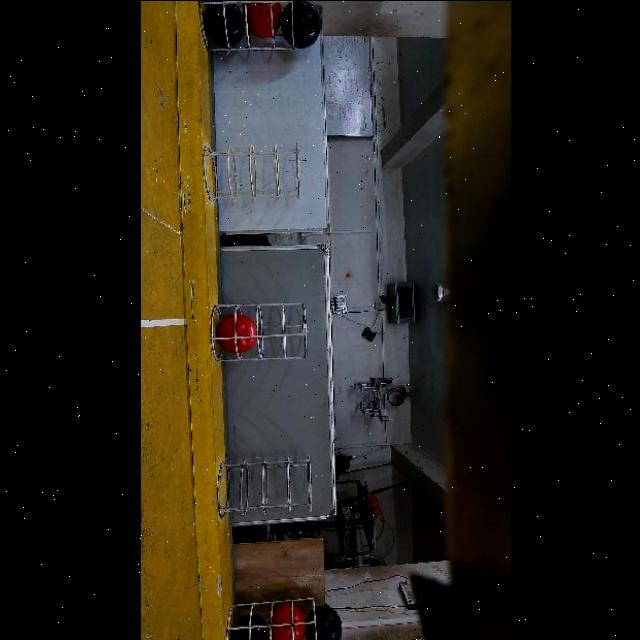P: (203, 3, 246, 48), (280, 0, 321, 47), (305, 605, 341, 640), (231, 613, 269, 640)
R: (216, 313, 256, 352), (246, 2, 282, 37), (271, 604, 305, 640)
S: (219, 452, 311, 526), (196, 143, 302, 204), (209, 302, 309, 366), (205, 1, 293, 52), (218, 596, 320, 640)
